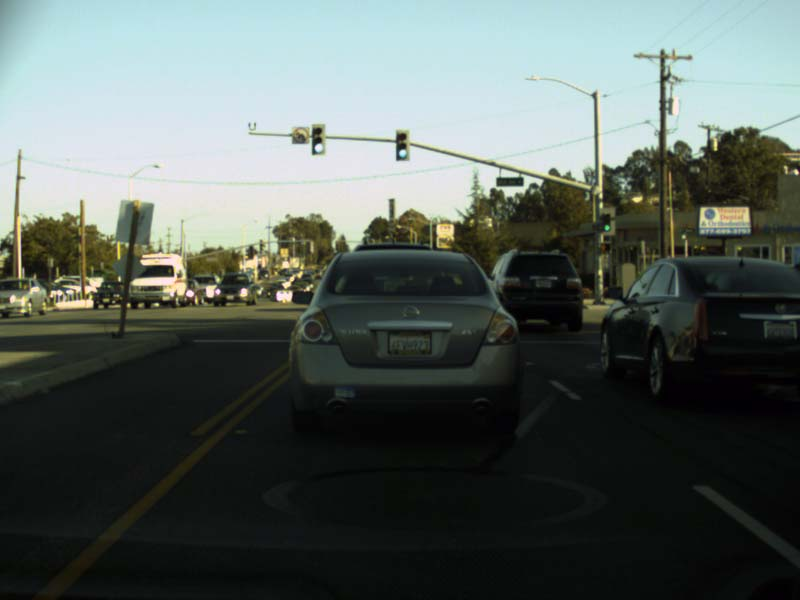Green: (395, 130, 409, 160), (312, 124, 325, 153), (601, 214, 610, 230)
